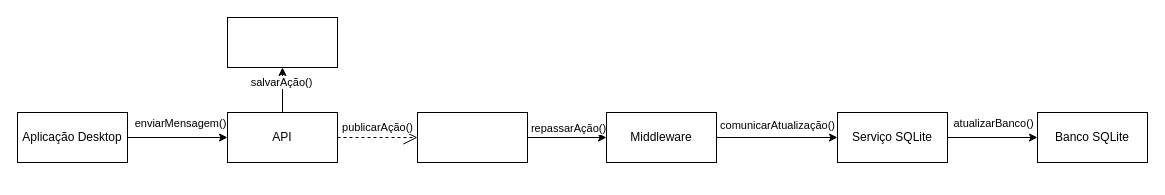
The diagram is 1165 pixels wide and 195 high, and some of its shapes have lost their labels. Here are the shapes that lost their labels. From the top down, the centre of each, then its label:
(x=282, y=42): MongoDB
(x=472, y=137): Redis
